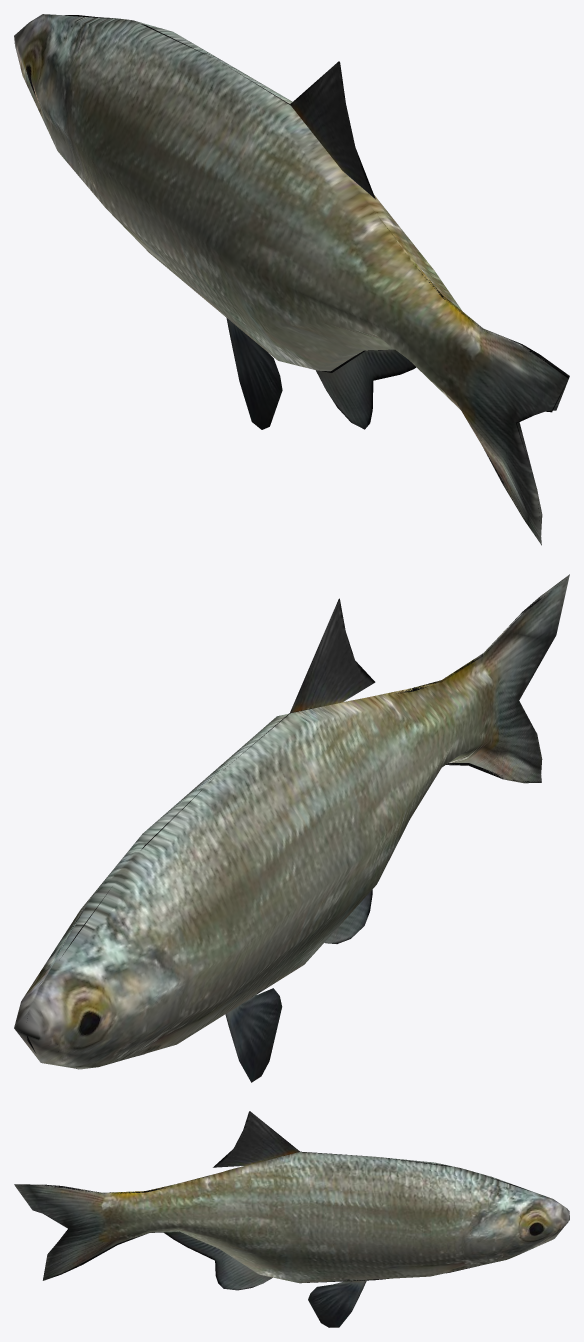
3 views of the same model, one above another, from view 1: azimuth 30°, elevation 25°; view 2: azimuth 150°, elevation 25°; view 3: azimuth 270°, elevation 25° (orthographic). The views are drawn at different scales.
Parts seen in each view (by area): view 1: Ca; view 2: Ca; view 3: Ca.
Boxes of the visible parts, left/top/right/bottom form: Ca: left=14, top=14, right=569, bottom=545; Ca: left=14, top=574, right=569, bottom=1082; Ca: left=14, top=1111, right=569, bottom=1327.
Bounding box in the file's own units: 0.0229 × 0.0647 × 0.1506.
1 material, 1 textured.
